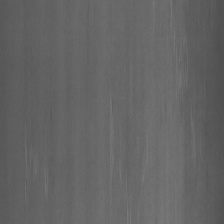silk_spot: (101, 79, 139, 193), (156, 26, 196, 93)
